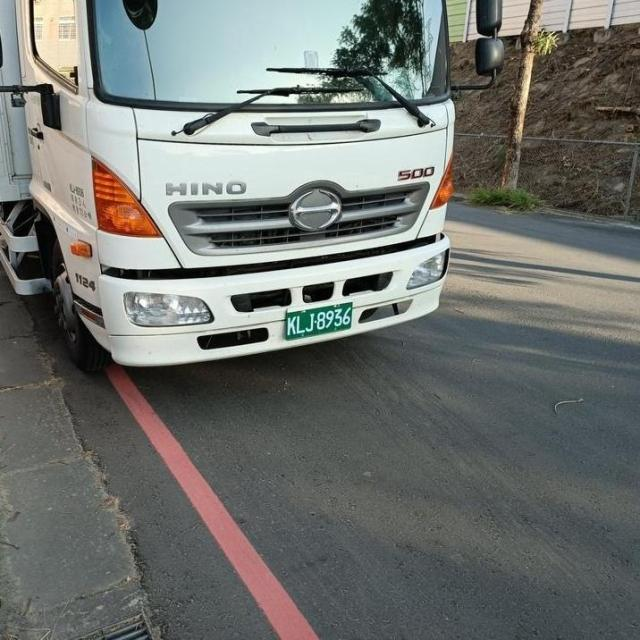GW: (277, 295, 360, 345)
